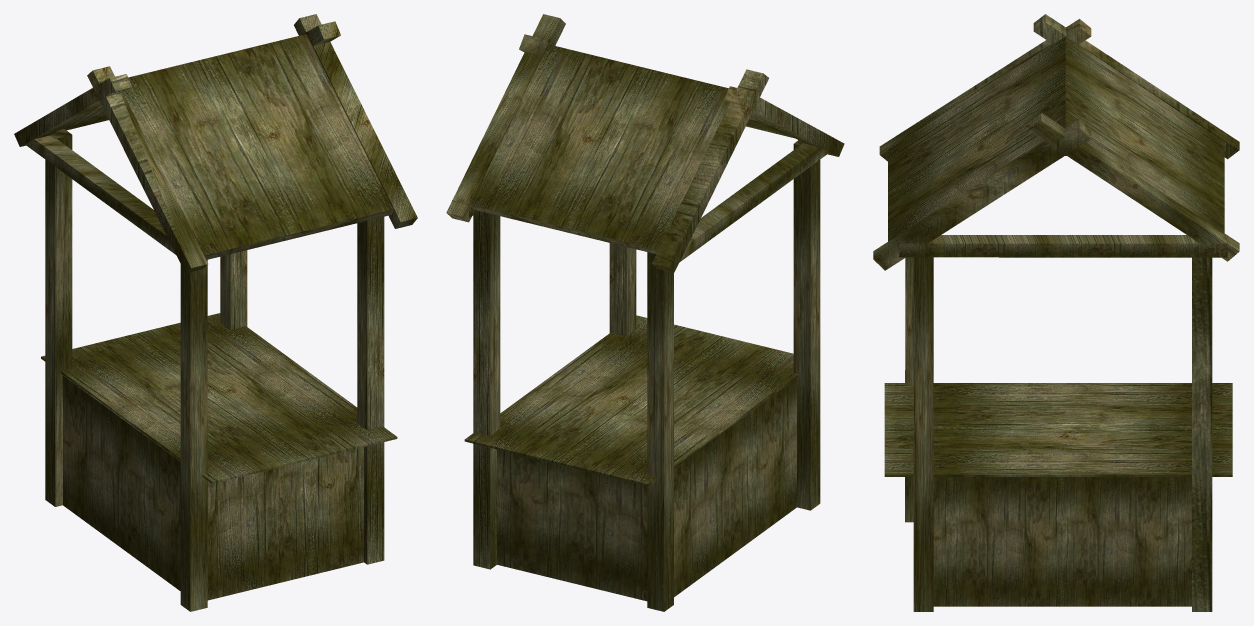
The model's file is Tray.glb.
The picture shows the model from 3 angles, left to right: view 1: azimuth 30°, elevation 25°; view 2: azimuth 150°, elevation 25°; view 3: azimuth 270°, elevation 25°; orthographic projection. The views are drawn at different scales.
Visible parts, largest first — view 1: Tray; view 2: Tray; view 3: Tray.
Part boxes in pixels (x1,y1,x2,y2): Tray: [14, 14, 417, 611]; Tray: [446, 14, 844, 611]; Tray: [873, 14, 1239, 611].
Bounding box in the file's own units: 1.41 × 2.94 × 1.96.
1 material, 1 textured.
